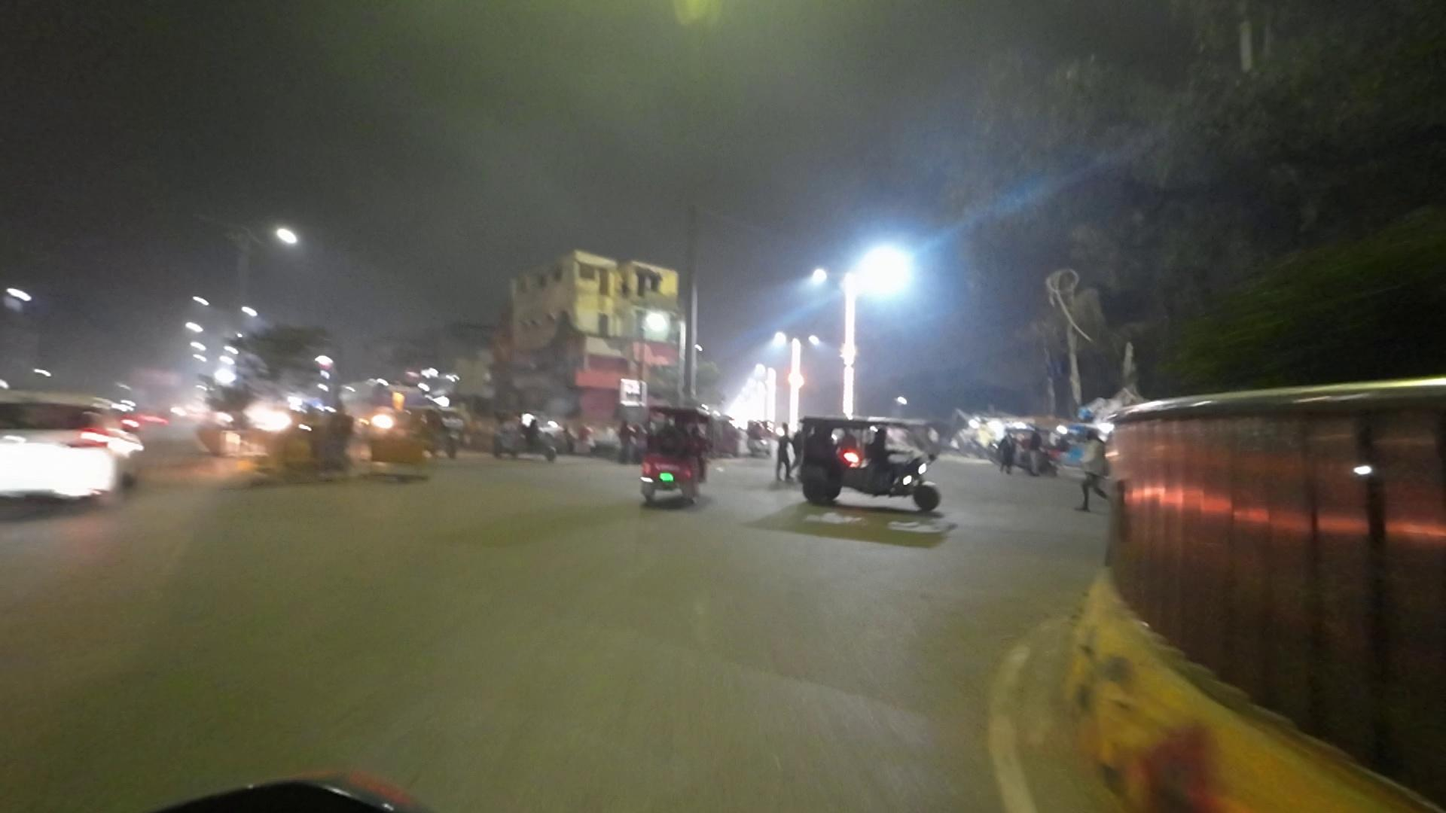streetlight: (182, 208, 241, 230)
